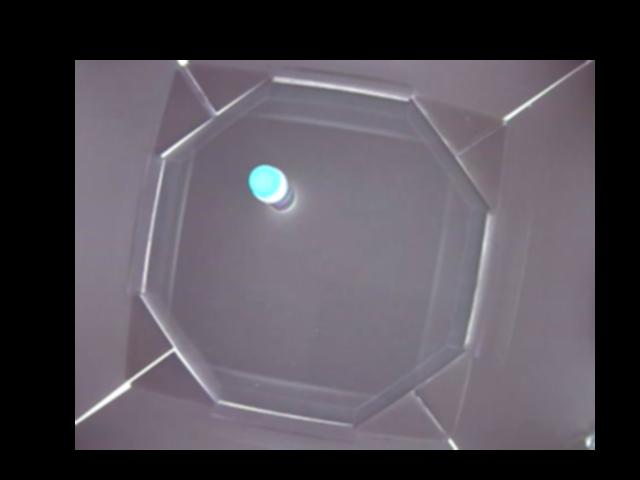Medicine: (248, 164, 298, 212)
